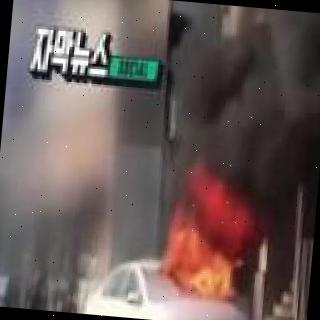fire: (160, 188, 252, 302)
